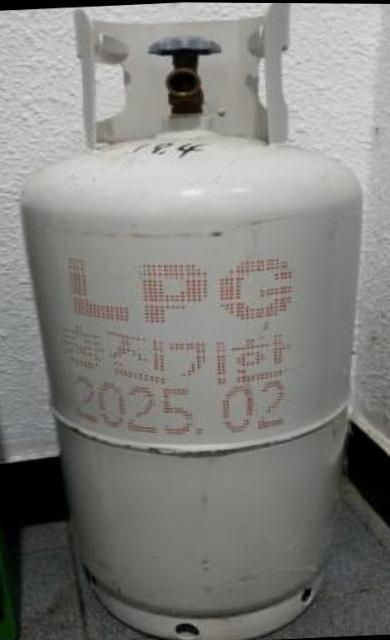cylinder: (1, 1, 390, 640)
